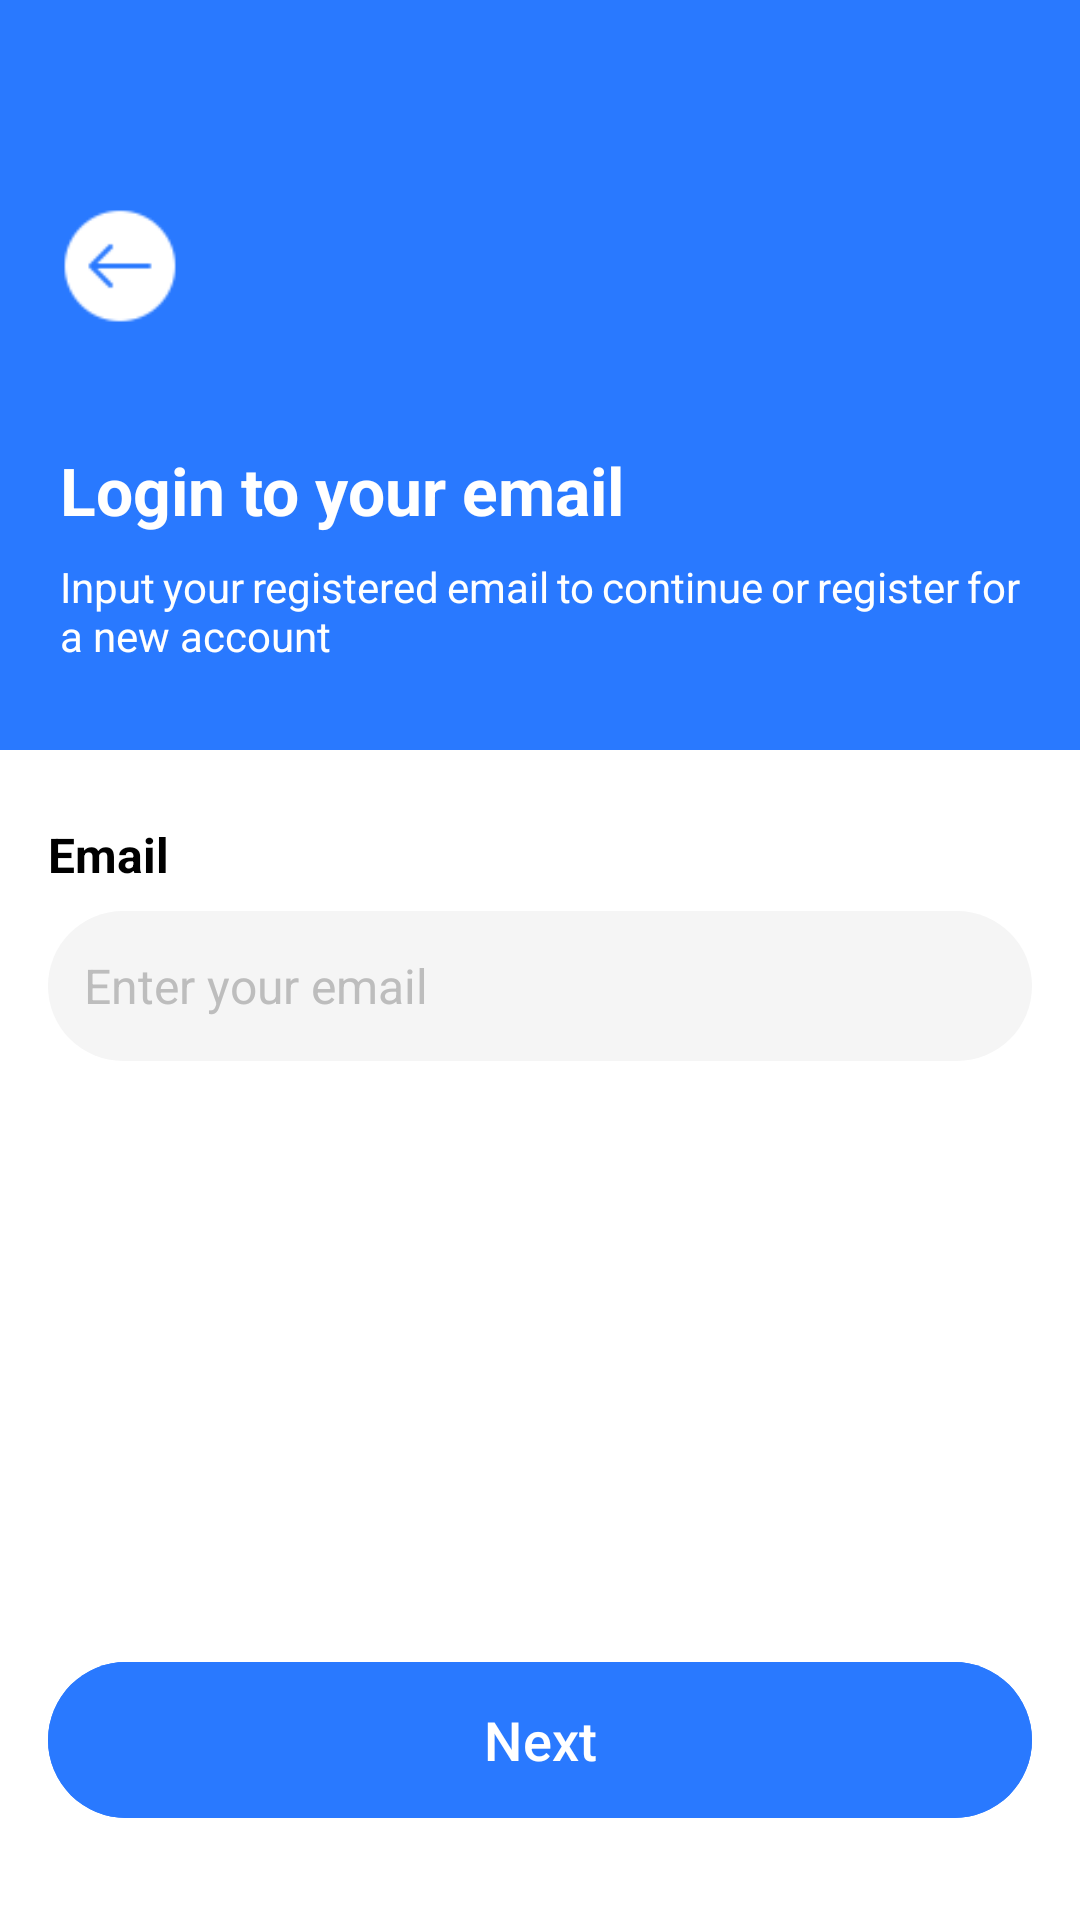

Icon bounding boxes for this 1080px x 1920px phone screenshot, format (x1, y1, x2, y2):
Back: (64, 210, 176, 322)
